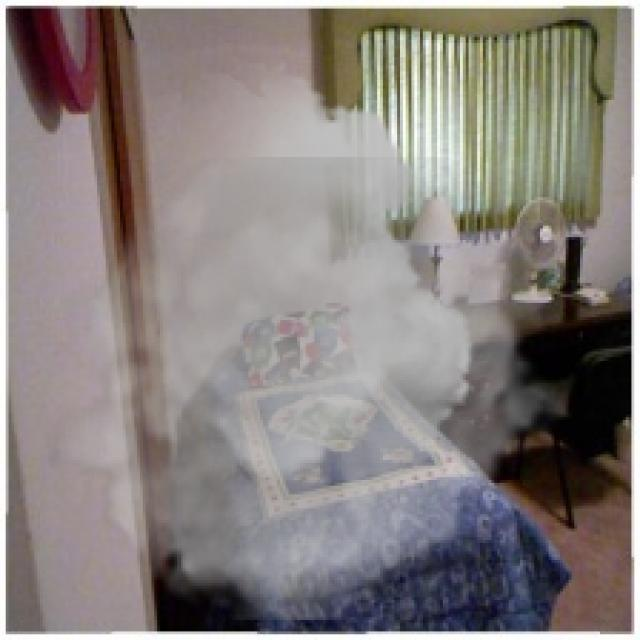smoke: (46, 63, 568, 620)
